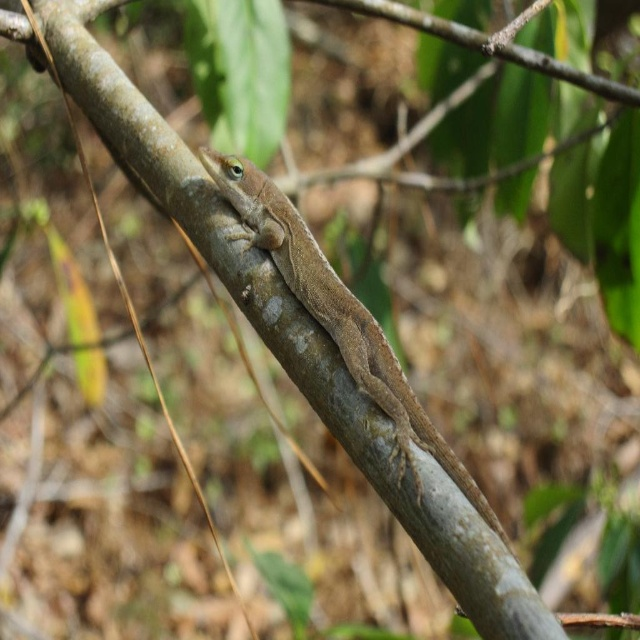Lizard: (198, 151, 518, 562)
